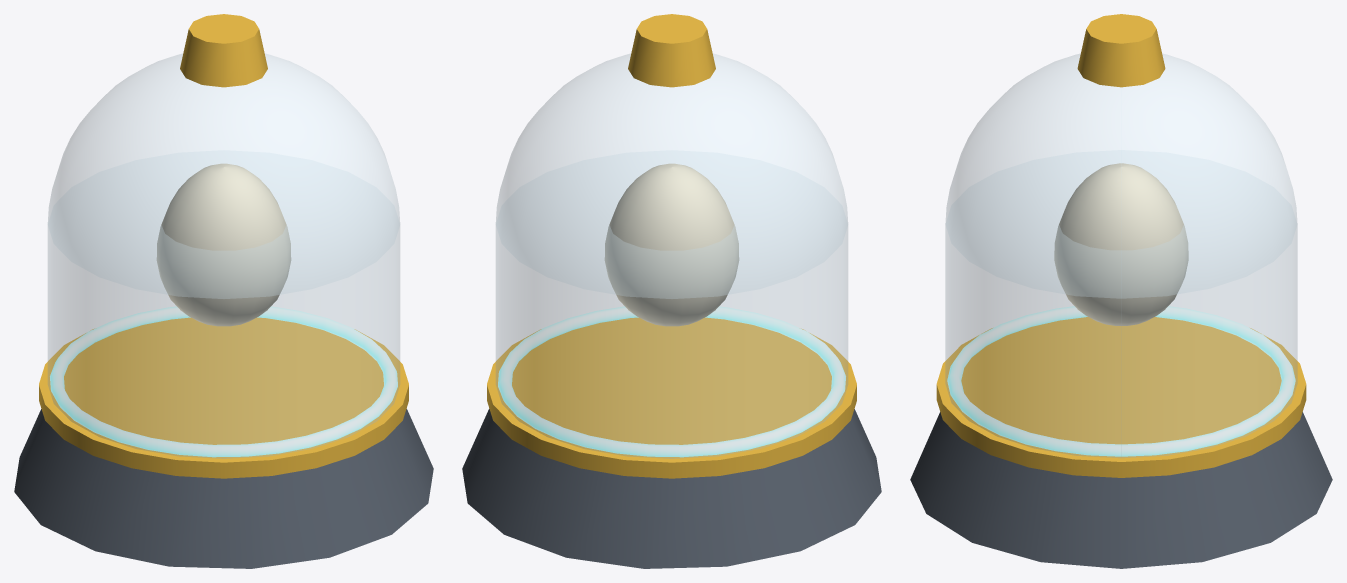
File: EggCapsule.glb
The picture shows the model from 3 angles, left to right: view 1: azimuth 30°, elevation 25°; view 2: azimuth 150°, elevation 25°; view 3: azimuth 270°, elevation 25°; orthographic projection.
Visible parts, largest first — view 1: Glass, Body, HoverEgg, Glow; view 2: Glass, Body, HoverEgg, Glow; view 3: Glass, Body, HoverEgg, Glow.
Part boxes in pixels (box(x1,y1,x2,y2)): Glass: box(47, 53, 400, 458); Body: box(14, 14, 433, 568); HoverEgg: box(157, 163, 290, 326); Glow: box(50, 306, 397, 457); Glass: box(495, 53, 848, 458); Body: box(462, 14, 881, 568); HoverEgg: box(605, 163, 738, 326); Glow: box(498, 306, 845, 457); Glass: box(945, 53, 1297, 457); Body: box(910, 14, 1332, 568); HoverEgg: box(1054, 163, 1188, 325); Glow: box(947, 306, 1295, 456).
Size of the model in its own units: 2.4 by 2.83 by 2.4.
4 materials, 2 textured.
